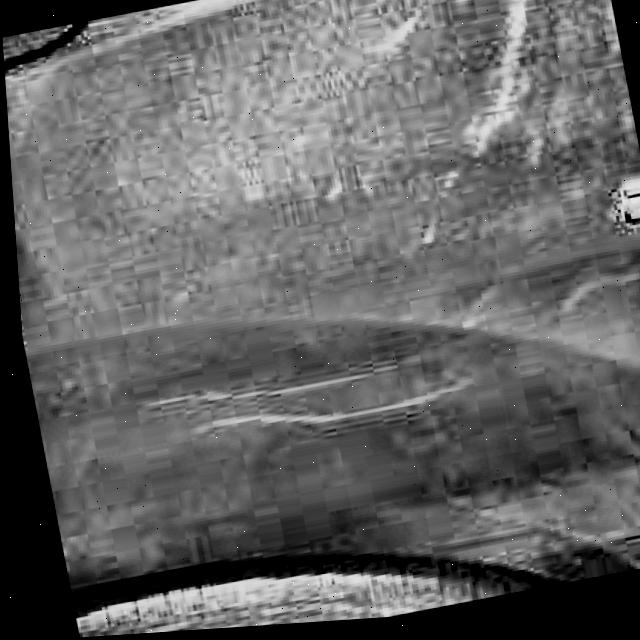door_scratch: (429, 0, 609, 170)
